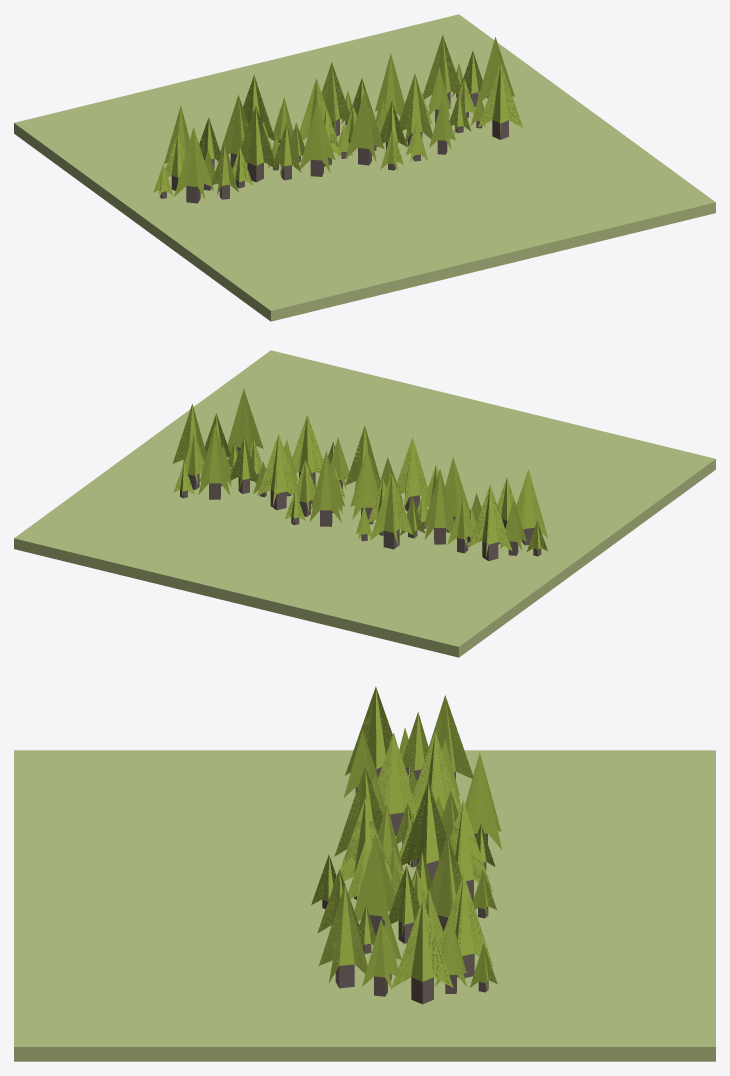
File: Forest IV Type II.fbx
3 views of the same model, one above another, from view 1: azimuth 30°, elevation 25°; view 2: azimuth 150°, elevation 25°; view 3: azimuth 270°, elevation 25° (orthographic). The views are drawn at different scales.
Parts seen in each view (by area): view 1: Forest IV, Forest IV Tree Layer; view 2: Forest IV, Forest IV Tree Layer; view 3: Forest IV, Forest IV Tree Layer.
Boxes of the visible parts, x1,y1,x2,y2 form: Forest IV: [14, 14, 715, 321]; Forest IV Tree Layer: [153, 35, 523, 203]; Forest IV: [14, 350, 715, 657]; Forest IV Tree Layer: [172, 388, 547, 560]; Forest IV: [14, 750, 715, 1061]; Forest IV Tree Layer: [311, 686, 501, 1004].
Size of the model in its own units: 1600 by 290 by 1600.
